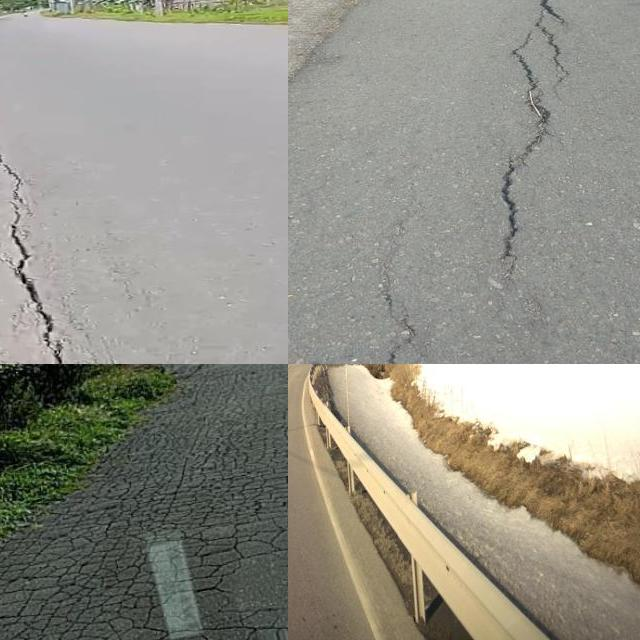Memanjang: (488, 0, 571, 274), (0, 135, 73, 364)
Retak Buaya: (0, 364, 288, 640)
